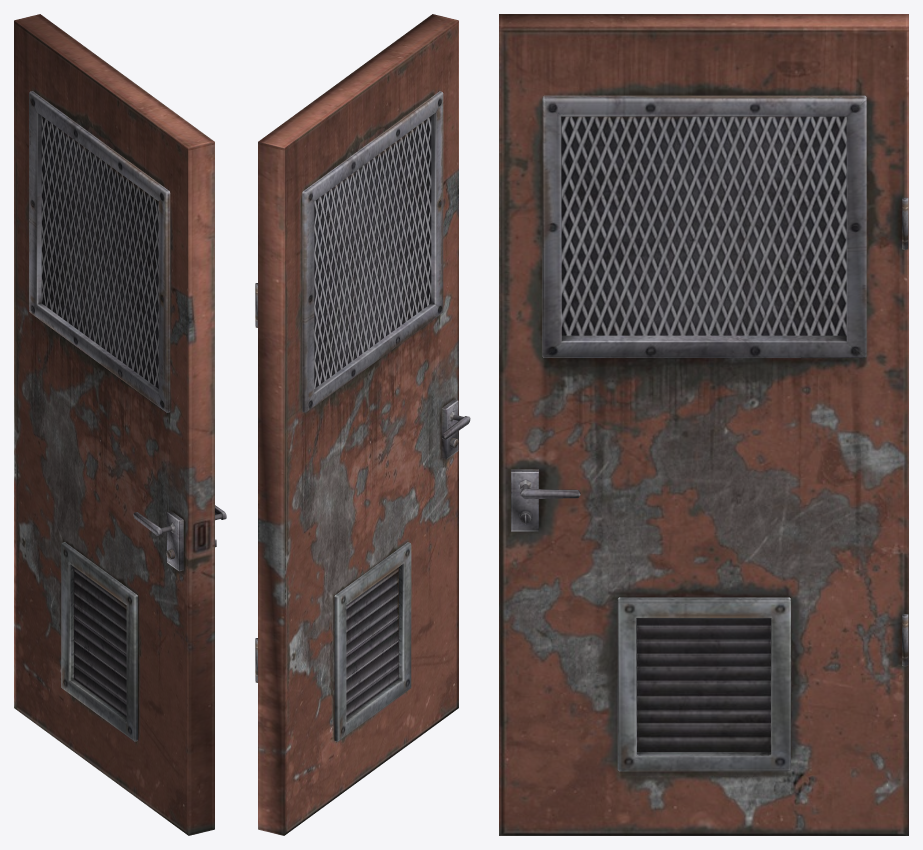
Rendered from service_door.glb.
The picture shows the model from 3 angles, left to right: view 1: azimuth 30°, elevation 25°; view 2: azimuth 150°, elevation 25°; view 3: azimuth 270°, elevation 25°; orthographic projection. The views are drawn at different scales.
Parts seen in each view (by area): view 1: door5_SM; view 2: door5_SM; view 3: door5_SM.
Boxes of the visible parts, x1,y1,x2,y2 form: door5_SM: [14, 14, 226, 835]; door5_SM: [255, 14, 470, 835]; door5_SM: [499, 14, 908, 835].
Size of the model in its own units: 0.252 by 2.44 by 1.12.
Materials: 1 (1 with a texture image).
